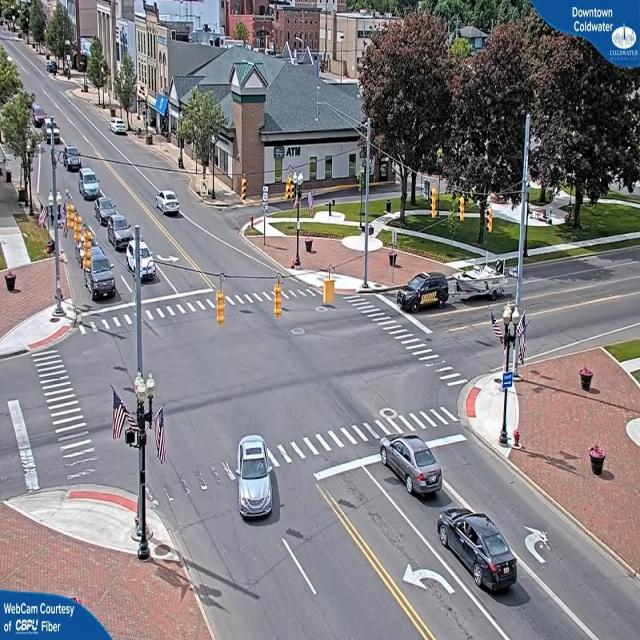car: (436, 509, 520, 595), (378, 434, 444, 500), (238, 434, 280, 522), (399, 273, 451, 314), (402, 560, 456, 598), (86, 248, 118, 296), (106, 216, 136, 251), (80, 168, 102, 198), (157, 191, 180, 215), (98, 199, 119, 224), (112, 120, 128, 136)
